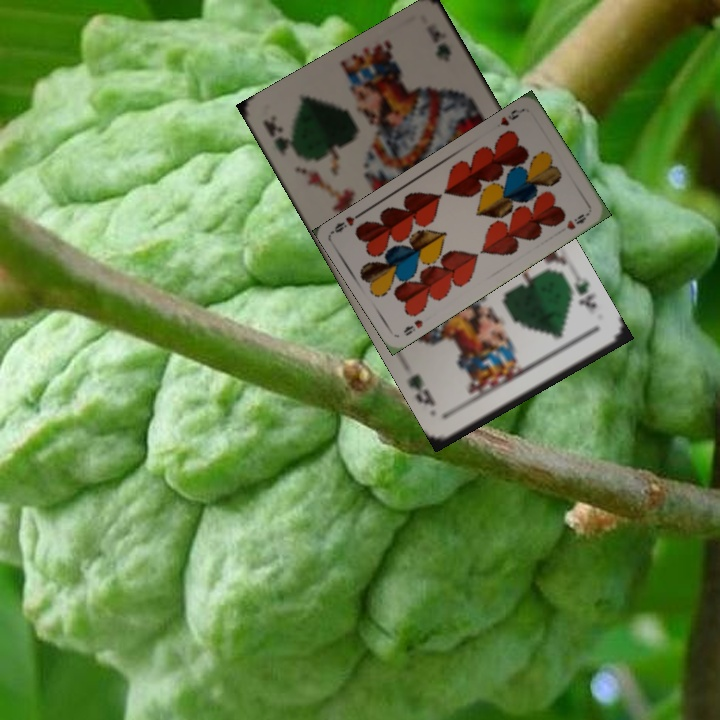GK: (259, 112, 296, 159), (570, 272, 599, 312)
H9: (496, 105, 525, 129), (399, 315, 426, 338)
